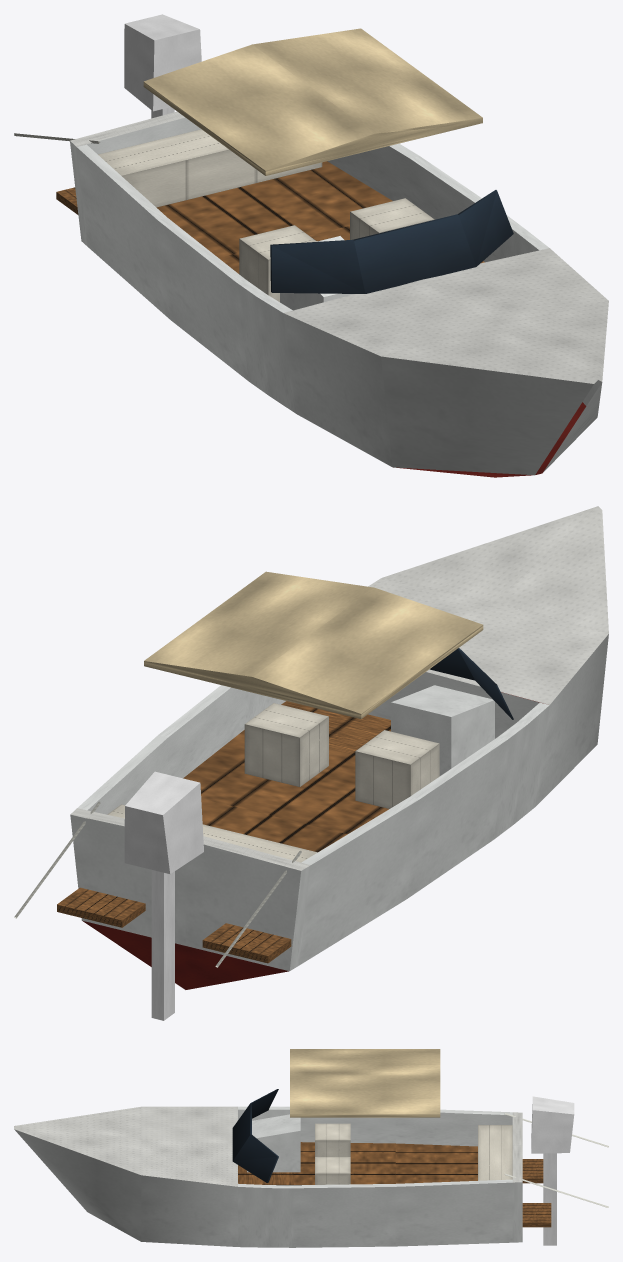
The model's file is SM_Morin_Barca_Motoscafo_TelaBeige_LOD2.fbx.
The picture shows the model from 3 angles, top to bottom: view 1: azimuth 30°, elevation 25°; view 2: azimuth 150°, elevation 25°; view 3: azimuth 270°, elevation 25°; orthographic projection. The views are drawn at different scales.
Visible parts, largest first — view 1: SM_Morin_Barca_Motoscafo_TelaBeige_LOD2; view 2: SM_Morin_Barca_Motoscafo_TelaBeige_LOD2; view 3: SM_Morin_Barca_Motoscafo_TelaBeige_LOD2.
Boxes of the visible parts, x1=… form: SM_Morin_Barca_Motoscafo_TelaBeige_LOD2: x1=14, y1=14, x2=608, y2=477; SM_Morin_Barca_Motoscafo_TelaBeige_LOD2: x1=14, y1=506, x2=608, y2=1020; SM_Morin_Barca_Motoscafo_TelaBeige_LOD2: x1=14, y1=1049, x2=608, y2=1247.
Size of the model in its own units: 270 by 830 by 259.
1 material, 1 textured.
